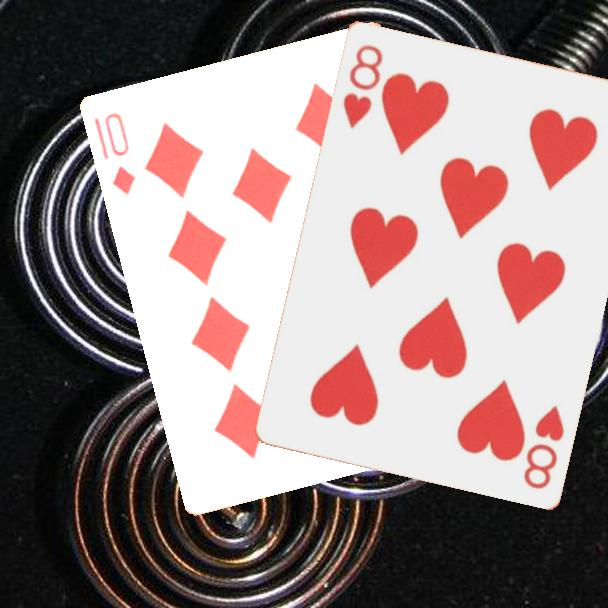d10: (91, 109, 139, 199)
h08: (519, 401, 567, 492), (339, 40, 386, 131)
